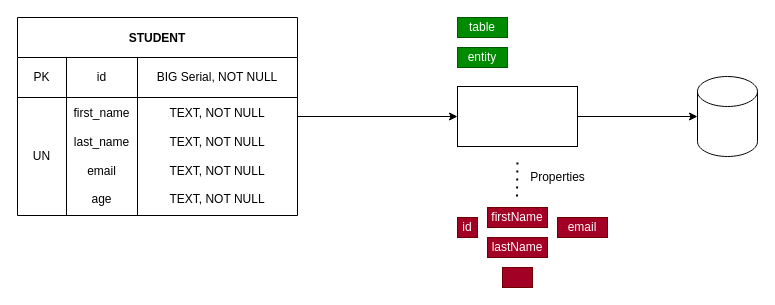
Image size: 775x305. Some labels were removed from this diagram. The centre of each missing label's shape, as x and y in pixels:
age: point 517,277
Student.java: point 517,116
